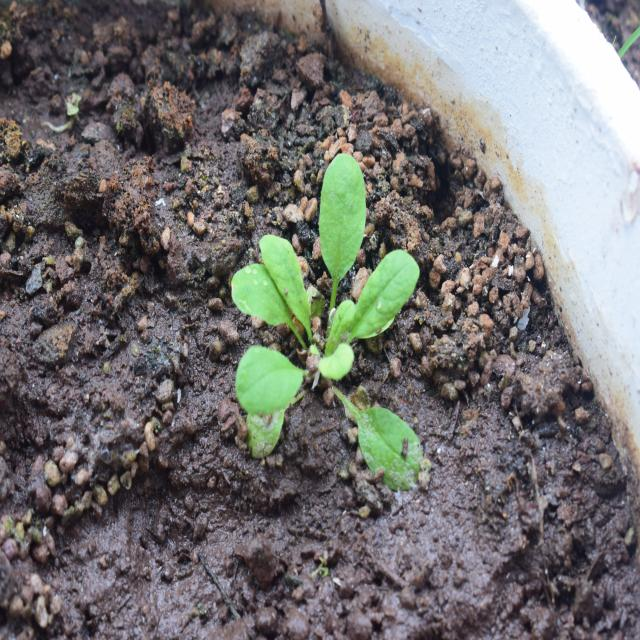Shepherd_Purse: (234, 140, 428, 469)
